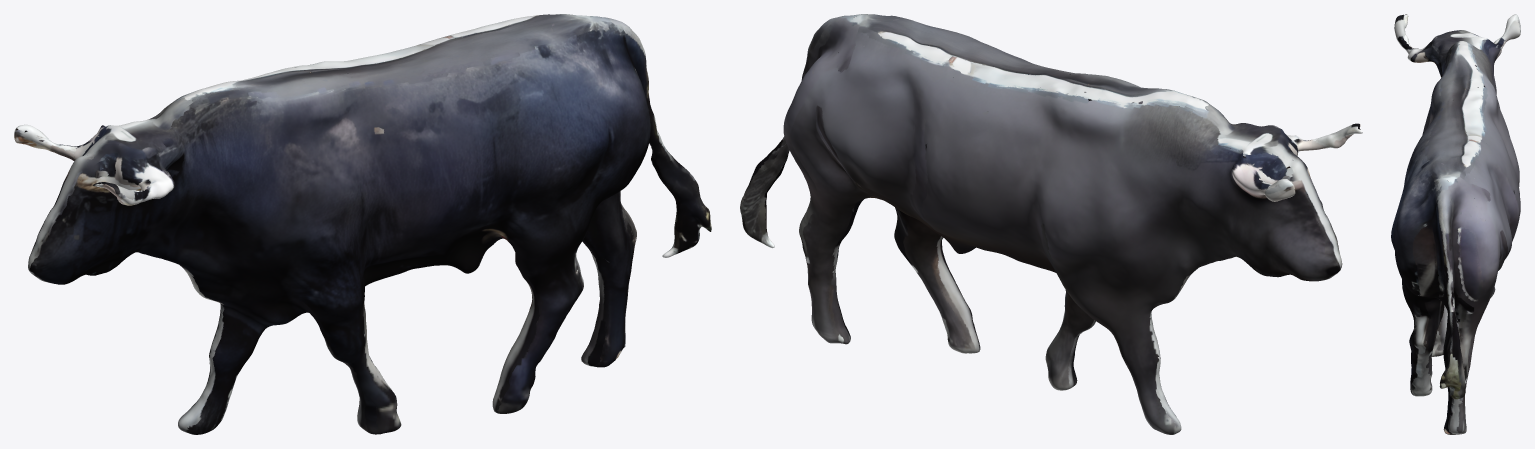
File: adulto.glb
3 views of the same model, side by side, from view 1: azimuth 30°, elevation 25°; view 2: azimuth 150°, elevation 25°; view 3: azimuth 270°, elevation 25° (orthographic). The views are drawn at different scales.
Parts seen in each view (by area): view 1: mesh; view 2: mesh; view 3: mesh.
Boxes of the visible parts, x1=… form: mesh: x1=14, y1=14, x2=711, y2=434; mesh: x1=740, y1=14, x2=1362, y2=434; mesh: x1=1391, y1=14, x2=1520, y2=434.
Bounding box in the file's own units: 1.89 × 0.991 × 0.4537.
Materials: 1 (1 with a texture image).
